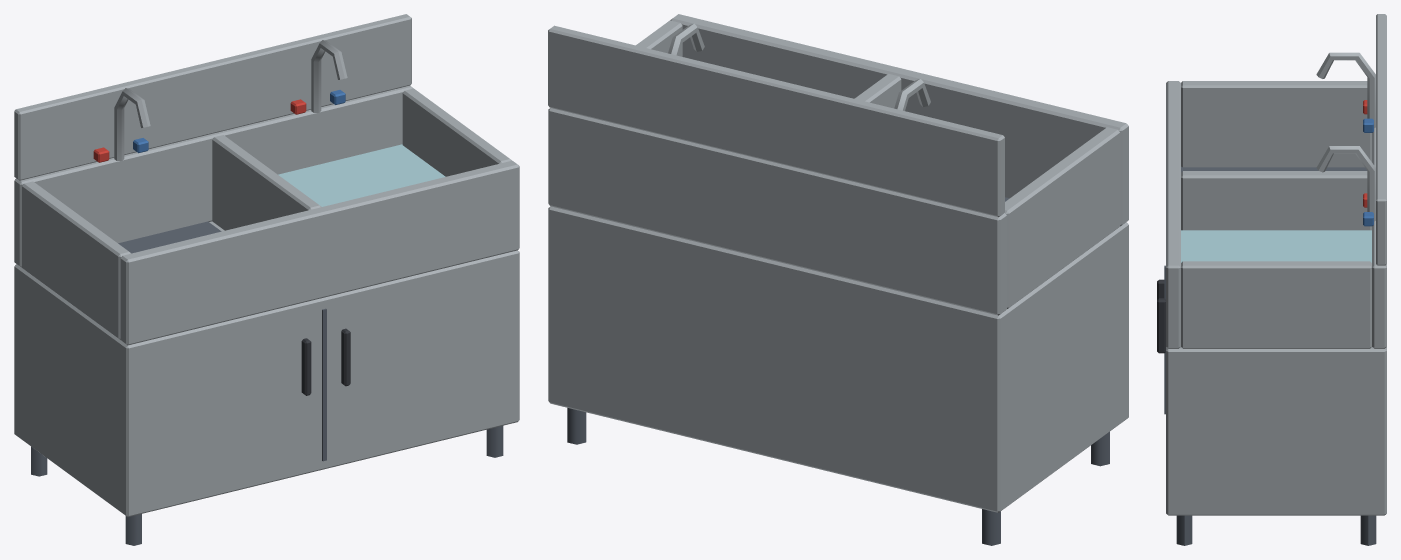
Rendered from sink_double.glb.
3 views of the same model, side by side, from view 1: azimuth 30°, elevation 25°; view 2: azimuth 150°, elevation 25°; view 3: azimuth 270°, elevation 25° (orthographic). The views are drawn at different scales.
Visible parts, largest first — view 1: sink_double; view 2: sink_double; view 3: sink_double.
Boxes of the visible parts, x1=… form: sink_double: x1=14, y1=14, x2=519, y2=545; sink_double: x1=548, y1=14, x2=1128, y2=545; sink_double: x1=1157, y1=14, x2=1386, y2=545.
Bounding box in the file's own units: 1.2 × 1.07 × 0.6245.
